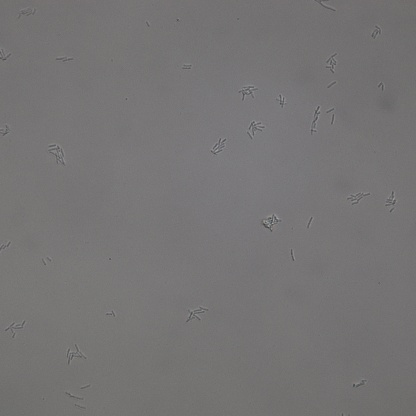R(colony): (65, 344, 89, 364), (47, 143, 65, 166), (247, 119, 266, 140), (347, 189, 370, 206), (4, 321, 25, 338), (186, 306, 208, 322), (261, 214, 281, 231), (238, 84, 258, 100), (310, 105, 321, 134), (385, 190, 398, 213), (210, 138, 226, 156), (325, 53, 338, 74), (18, 7, 35, 17), (372, 25, 381, 38), (352, 380, 366, 388), (56, 56, 74, 62)
